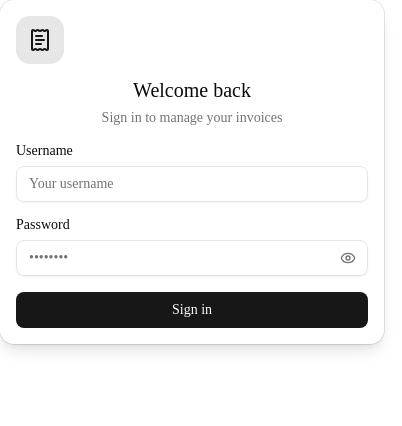
Test case: LoginForm › shows validation errors when submitted empty
Click the button "Sign in". click: (192,310)
box: [16,292,368,328]
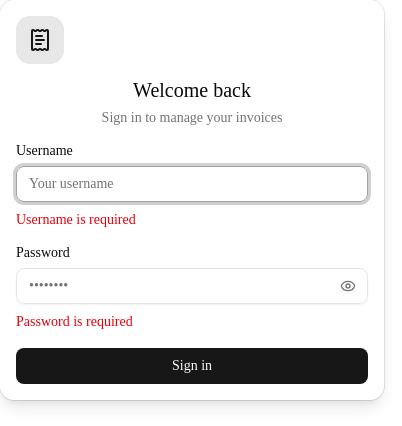
Result: the text "Username is required" is shown at [16,212,136,227]
Result: the text "Password is required" is shown at [16,314,133,329]
